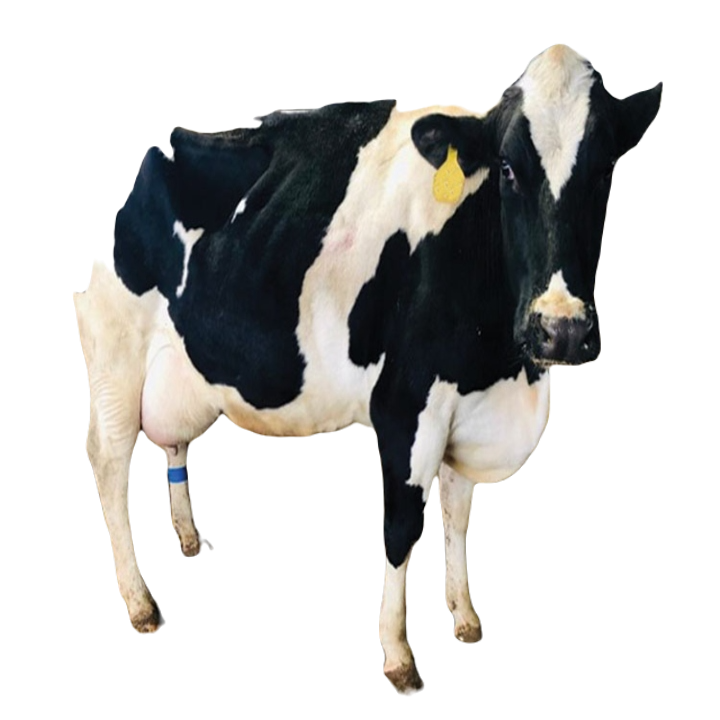Cow: (70, 44, 666, 694)
